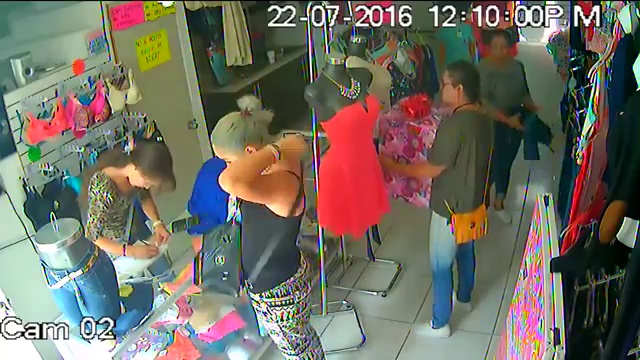face: (438, 69, 465, 105), (487, 35, 511, 63)
